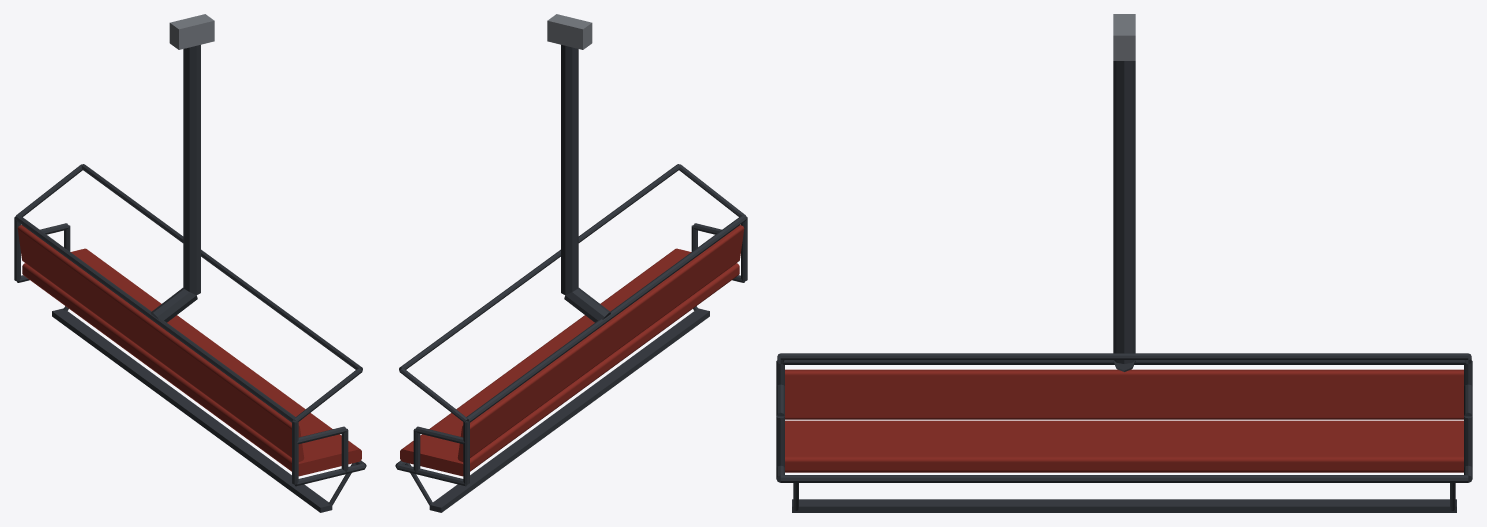
The model's file is chair_8pack.obj.
The picture shows the model from 3 angles, left to right: view 1: azimuth 30°, elevation 25°; view 2: azimuth 150°, elevation 25°; view 3: azimuth 270°, elevation 25°; orthographic projection. The views are drawn at different scales.
Size of the model in its own units: 0.7558 by 3.78 by 4.92.
